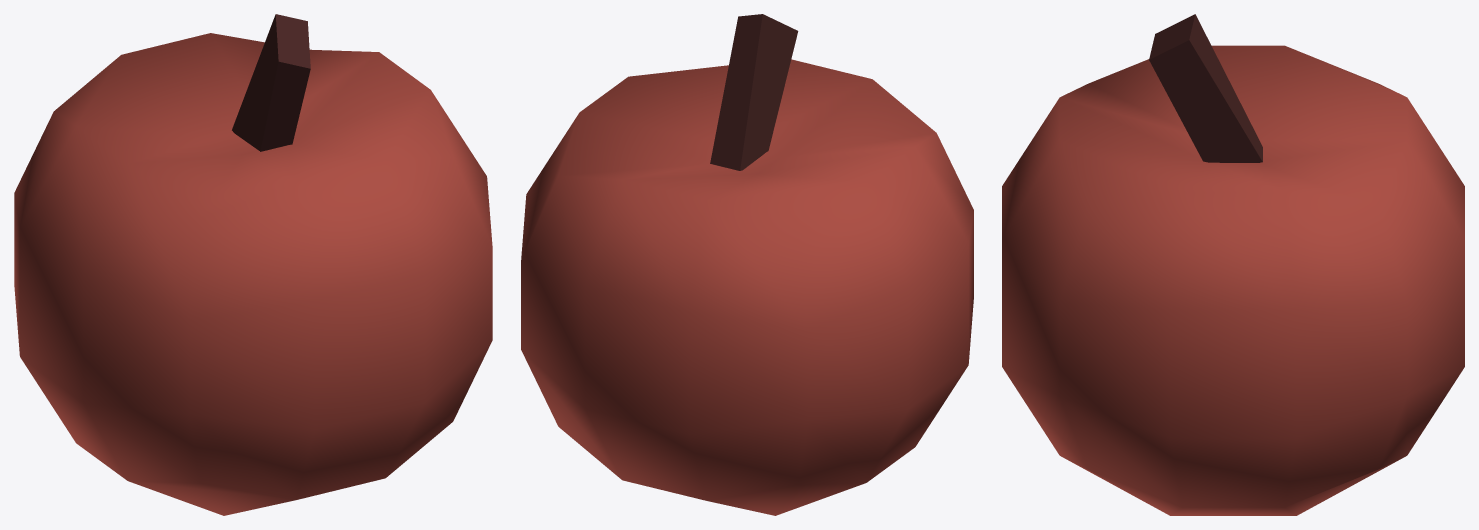
File: APPLE!.fbx
The picture shows the model from 3 angles, left to right: view 1: azimuth 30°, elevation 25°; view 2: azimuth 150°, elevation 25°; view 3: azimuth 270°, elevation 25°; orthographic projection. The views are drawn at different scales.
Parts seen in each view (by area): view 1: Cube, Cube.001; view 2: Cube, Cube.001; view 3: Cube, Cube.001.
Boxes of the visible parts, left/top/right/bottom form: Cube: left=14, top=33, right=492, bottom=515; Cube.001: left=232, top=14, right=310, bottom=151; Cube: left=521, top=59, right=973, bottom=515; Cube.001: left=710, top=14, right=798, bottom=170; Cube: left=1002, top=45, right=1464, bottom=515; Cube.001: left=1149, top=14, right=1262, bottom=162.
Bounding box in the file's own units: 319 × 360 × 319.
